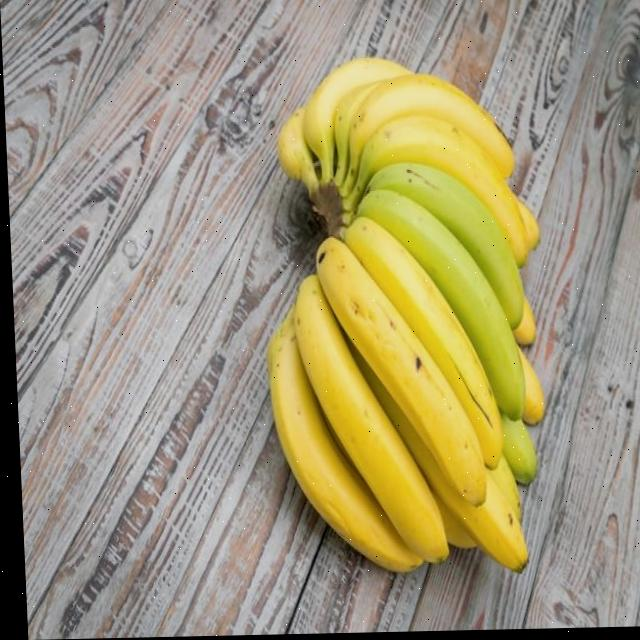banana: (249, 45, 557, 584)
